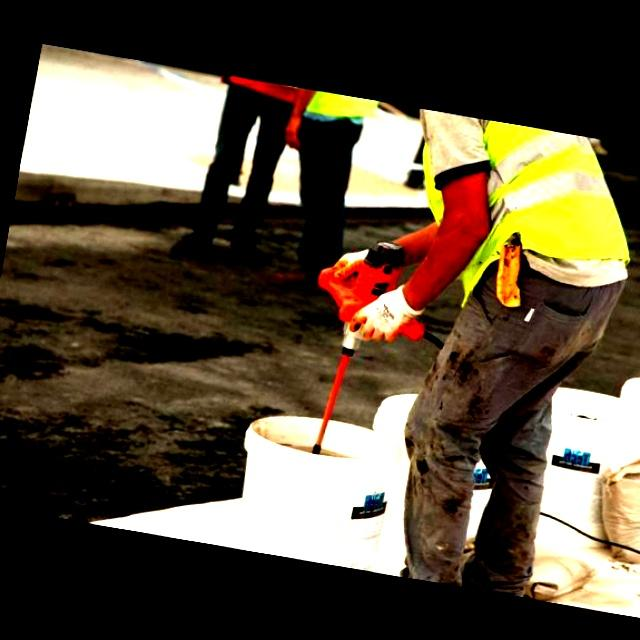safety_vest: (413, 97, 631, 297)
